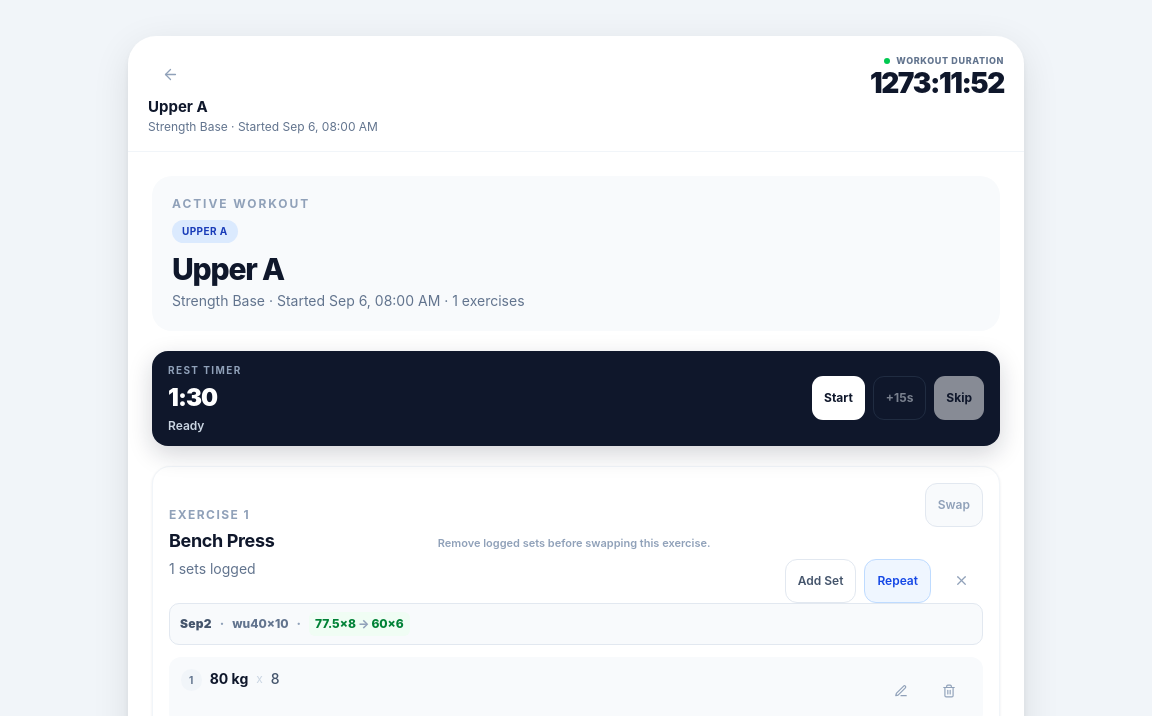
Test: WorkoutPage regression coverage › keeps an edit open and shows an error when saving fails
Click the button named "Edit set": click(901, 690) [879,668,923,712]
(page scrolled)
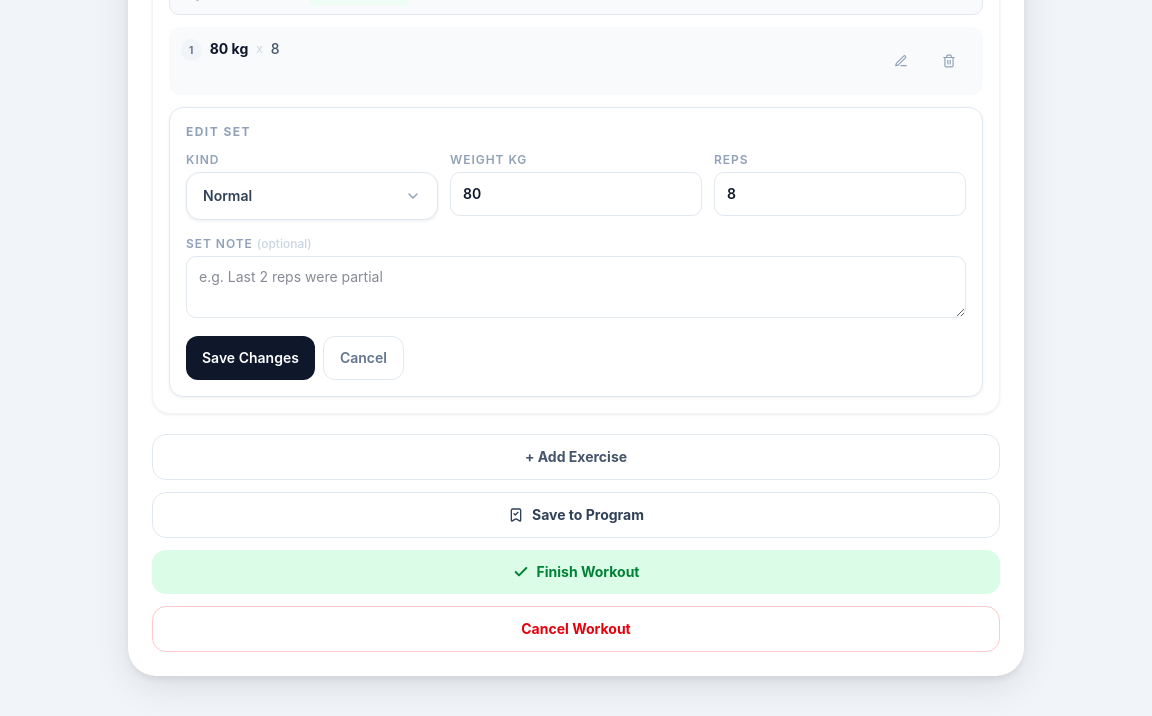
Click the button "Save Changes": click(250, 358) [186,336,315,380]
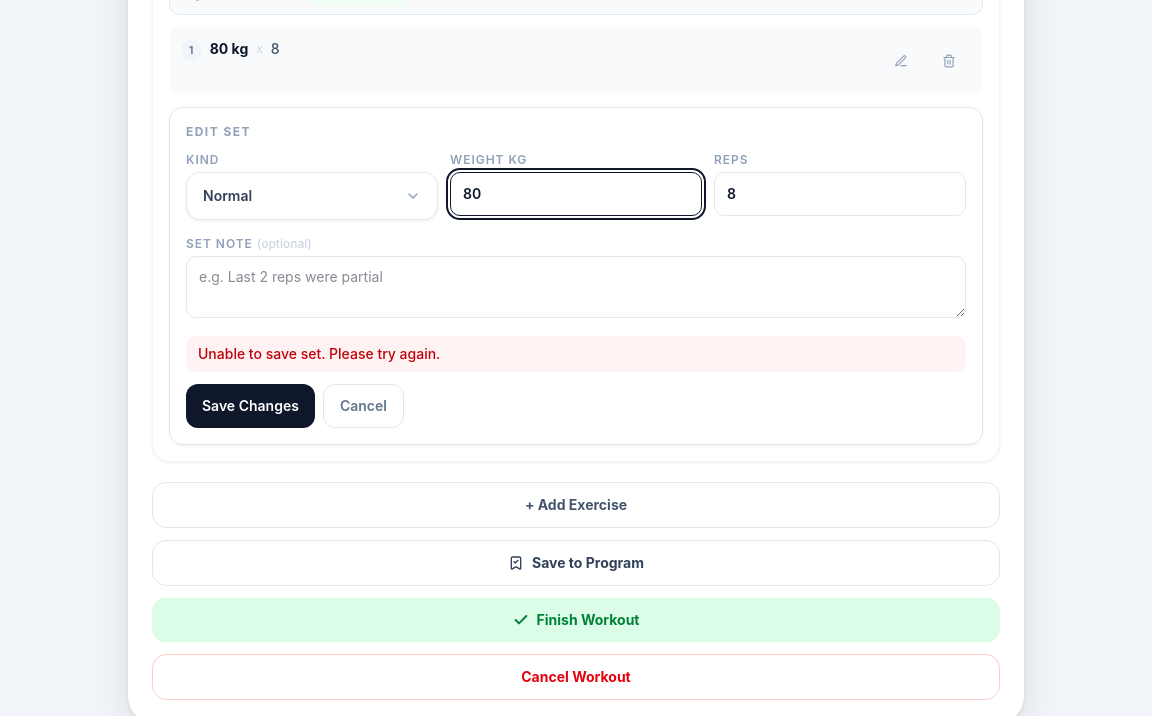
Expected: the text "Edit Set" is shown, [186,124,251,138]
Expected: the text "Unable to save set. Please try again." is shown, [186,336,966,372]
